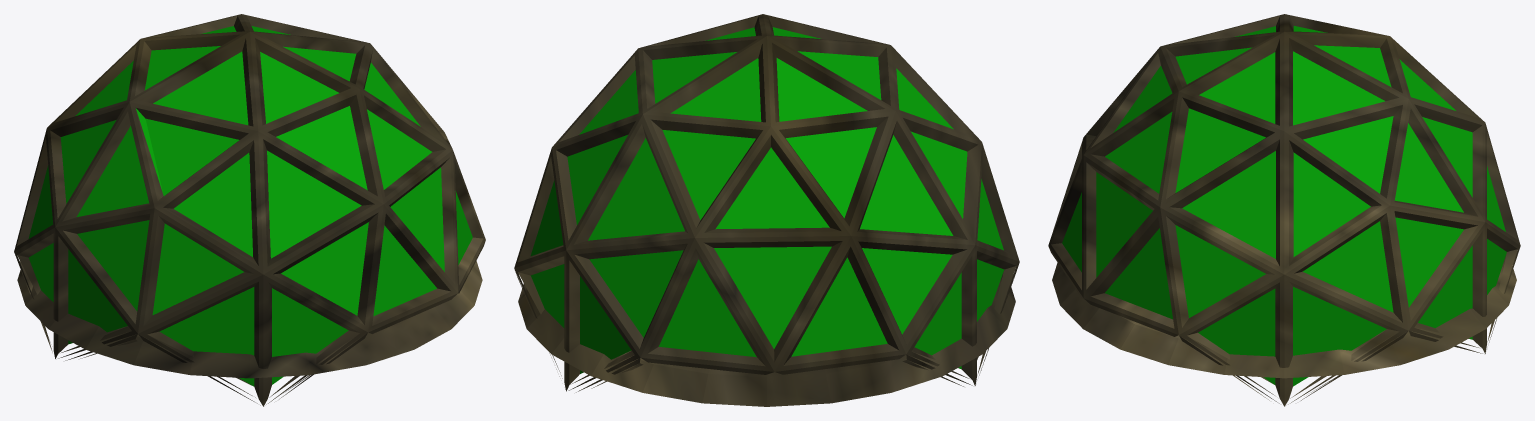
Rendered from Tech_globe.glb.
3 renders of one model, left to right at view 1: azimuth 30°, elevation 25°; view 2: azimuth 150°, elevation 25°; view 3: azimuth 270°, elevation 25°, orthographic. The views are drawn at different scales.
Visible parts, largest first — view 1: adult-radartower.002; view 2: adult-radartower.002; view 3: adult-radartower.002.
Part boxes in pixels (x1,y1,x2,y2): adult-radartower.002: (14,14,485,406); adult-radartower.002: (514,14,1019,406); adult-radartower.002: (1048,14,1520,406).
Size of the model in its own units: 2.71 by 1.8 by 2.76.
Materials: 2 (1 with a texture image).
